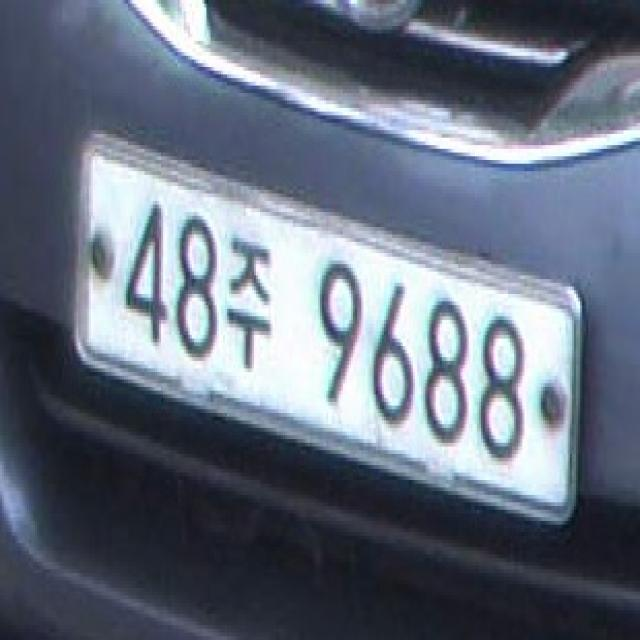4: (120, 189, 170, 365)
6: (366, 272, 416, 443)
8: (421, 292, 466, 458), (476, 316, 525, 464), (175, 212, 219, 376)
9: (318, 252, 363, 417)
ju: (225, 232, 279, 382)
license_plate: (63, 108, 605, 560)
